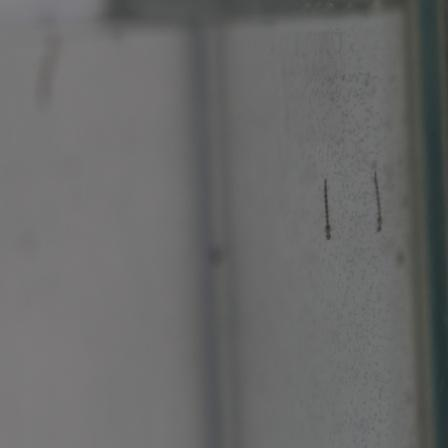Jentik-Nyamuk: (315, 170, 340, 242)
